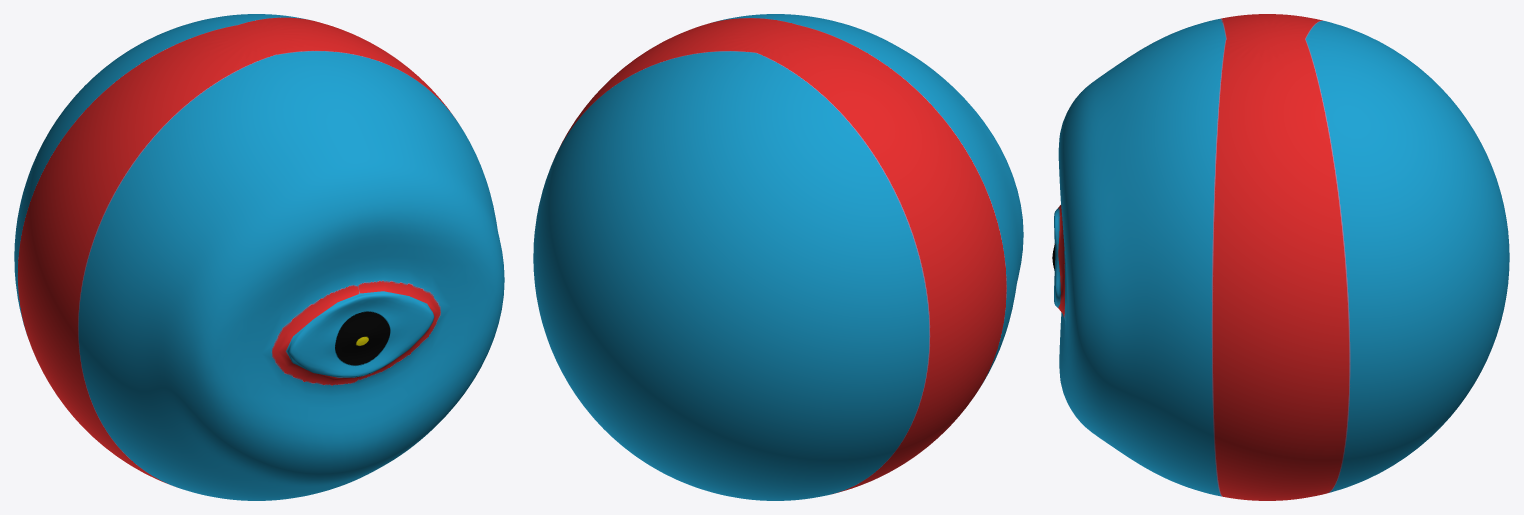
The model's file is enemy_test_fbx.fbx.
3 views of the same model, side by side, from view 1: azimuth 30°, elevation 25°; view 2: azimuth 150°, elevation 25°; view 3: azimuth 270°, elevation 25° (orthographic).
Visible parts, largest first — view 1: Sphere; view 2: Sphere; view 3: Sphere.
Boxes of the visible parts, left/top/right/bottom form: Sphere: left=14, top=14, right=504, bottom=500; Sphere: left=533, top=14, right=1023, bottom=500; Sphere: left=1052, top=14, right=1509, bottom=500.
Bounding box in the file's own units: 1.97 × 2 × 1.86.
